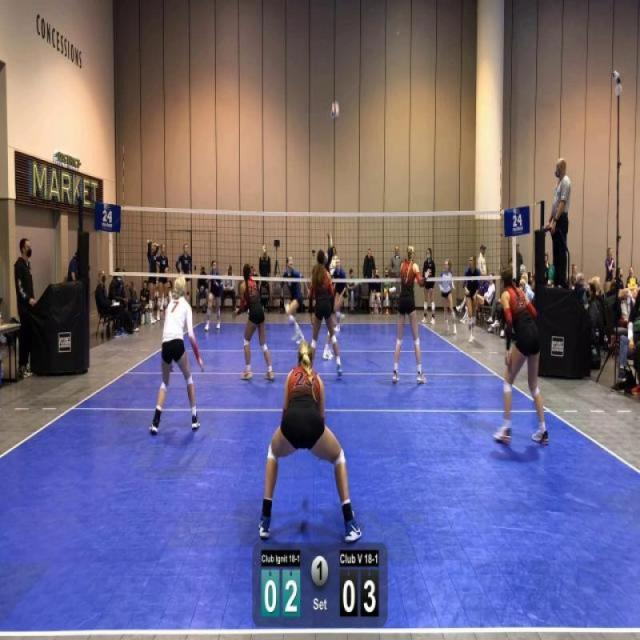volleyball: (330, 100, 340, 121)
